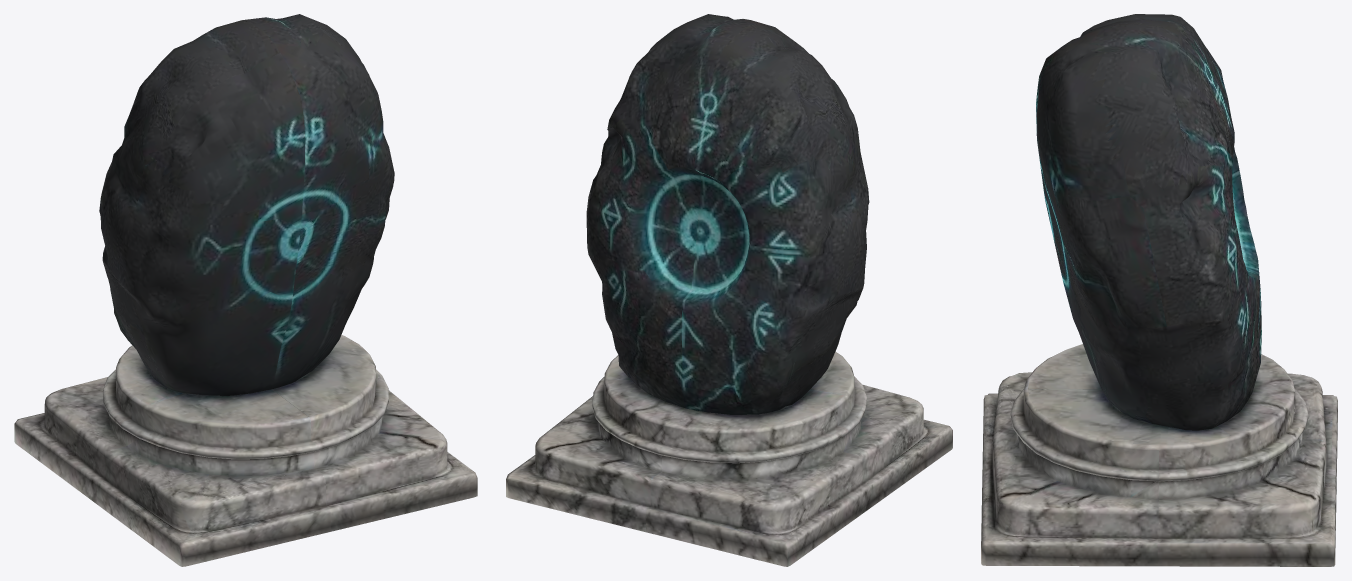
File: oracle_stone.glb
3 renders of one model, left to right at view 1: azimuth 30°, elevation 25°; view 2: azimuth 150°, elevation 25°; view 3: azimuth 270°, elevation 25°, orthographic. The views are drawn at different scales.
Parts seen in each view (by area): view 1: oracle_stone; view 2: oracle_stone; view 3: oracle_stone.
Boxes of the visible parts, box(x1,y1,x2,y2) form: oracle_stone: box(14, 14, 477, 566); oracle_stone: box(506, 14, 952, 566); oracle_stone: box(981, 14, 1337, 566).
Size of the model in its own units: 0.4153 by 0.6 by 0.4153.
1 material, 1 textured.
